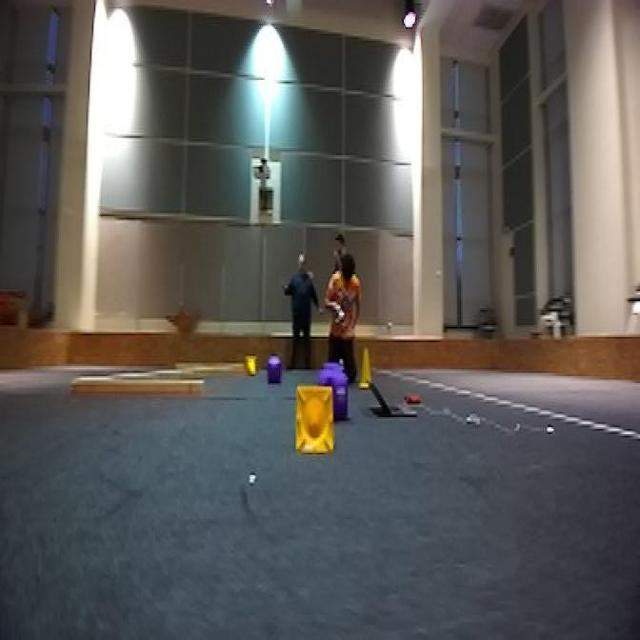frc_cone: (292, 381, 342, 463), (358, 347, 376, 383), (244, 351, 261, 378)
frc_cube: (326, 373, 352, 417), (264, 354, 284, 376)
